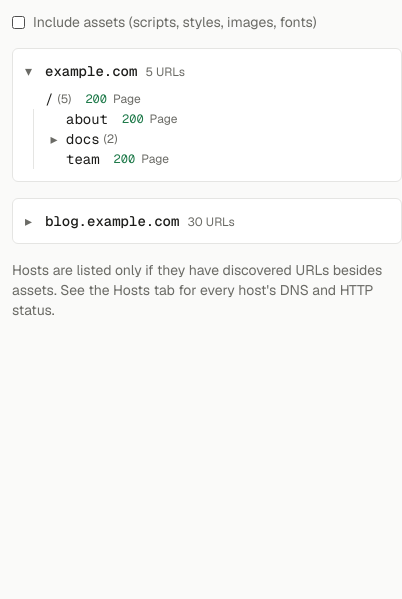
Test: SiteMap details on narrow screens › keeps one open entry at a time
This screenshot has width=402, height=599.
Click the button "about" at [87, 119], box x1=66 y1=109 x2=108 y2=129
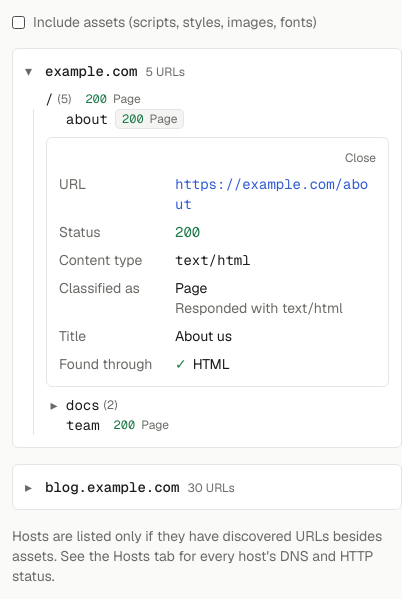
Click the button "team" at [83, 425], box x1=66 y1=415 x2=100 y2=435
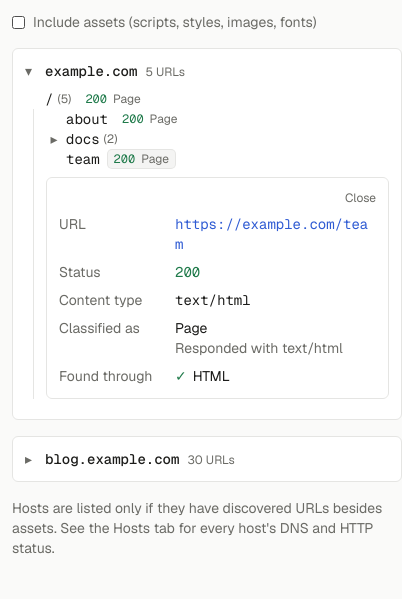
Check: the element that starts with "Close" shows "https://example.com/team", box x1=175 y1=215 x2=368 y2=253
